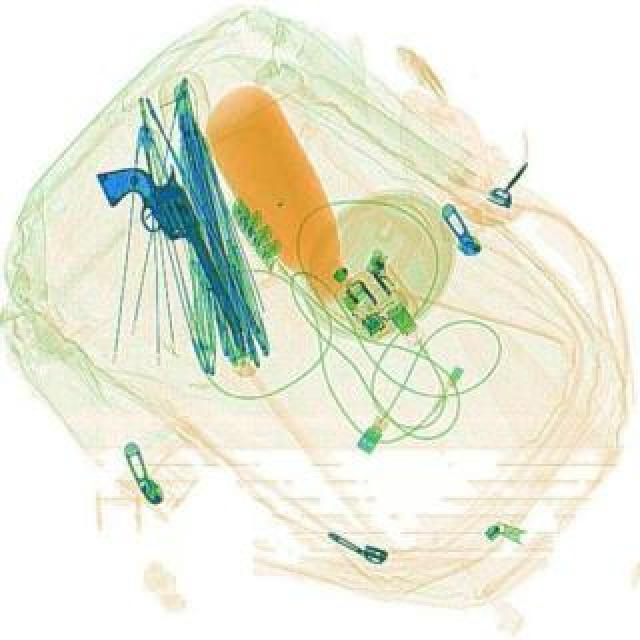gun: (94, 148, 242, 354)
